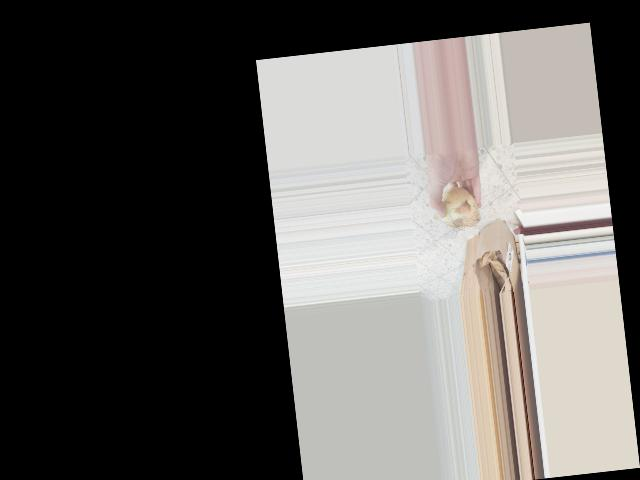onion: (430, 182, 482, 232)
